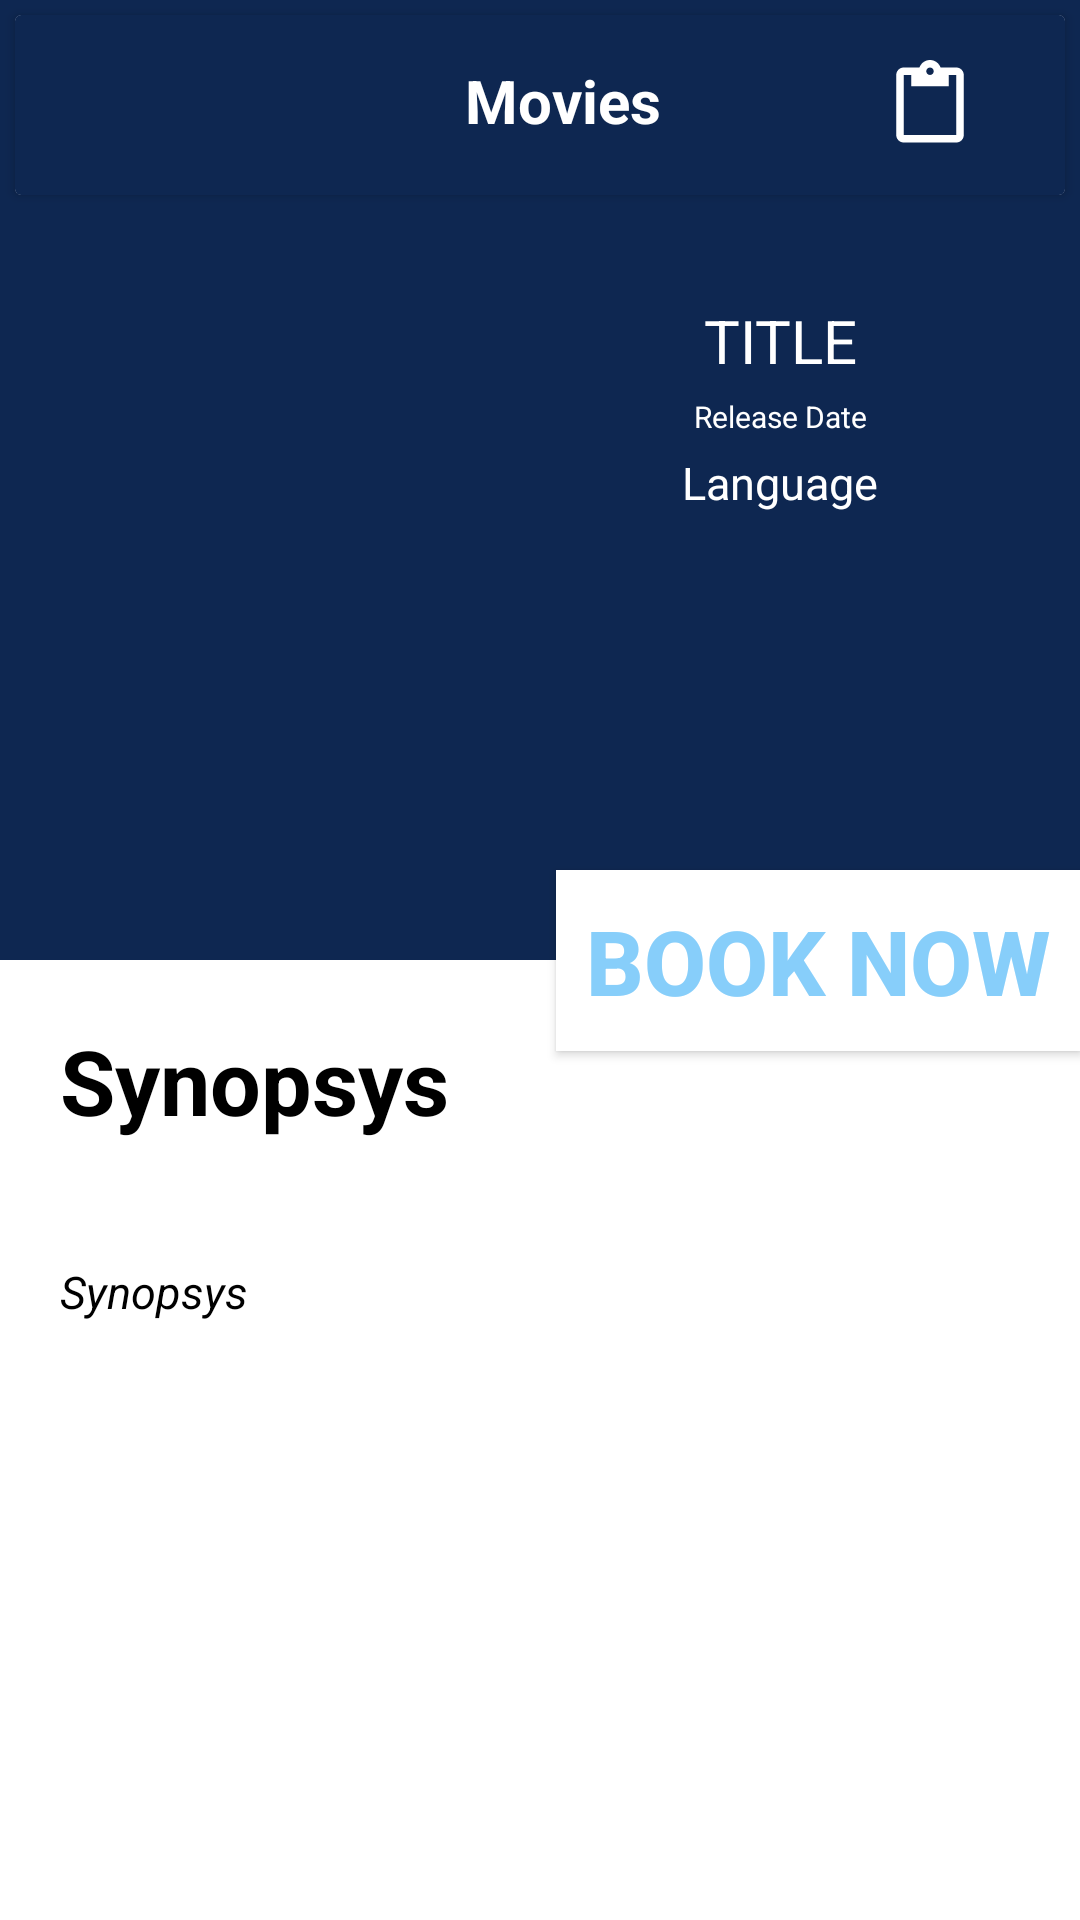

Screen size 1080*1920. Icon name, then its box in pixels as box=[x1, y1, x2, y2]:
content paste: box=[896, 60, 964, 143]
